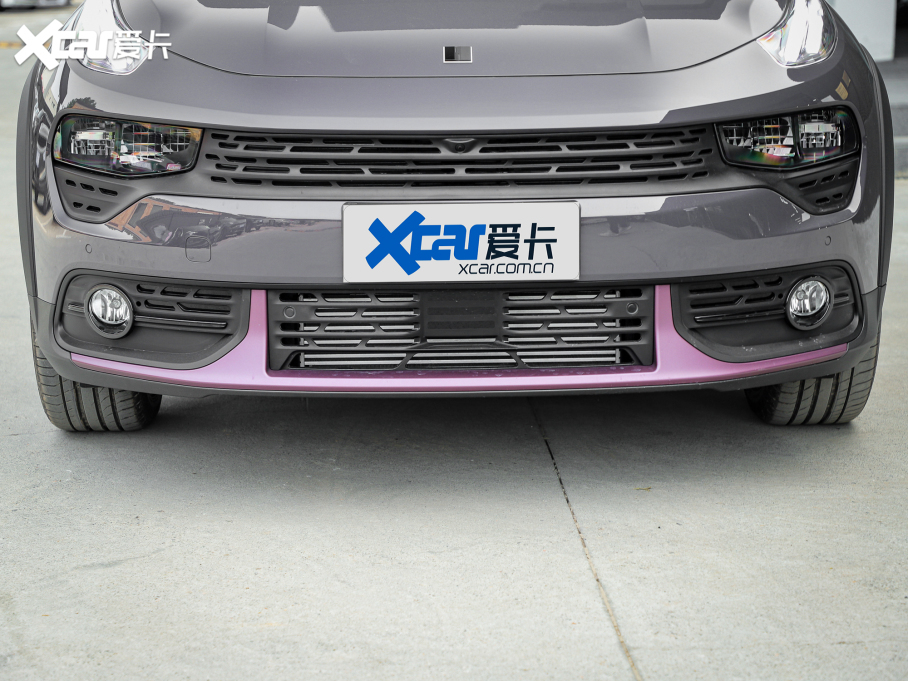LINK&CO: (445, 46, 471, 62)
